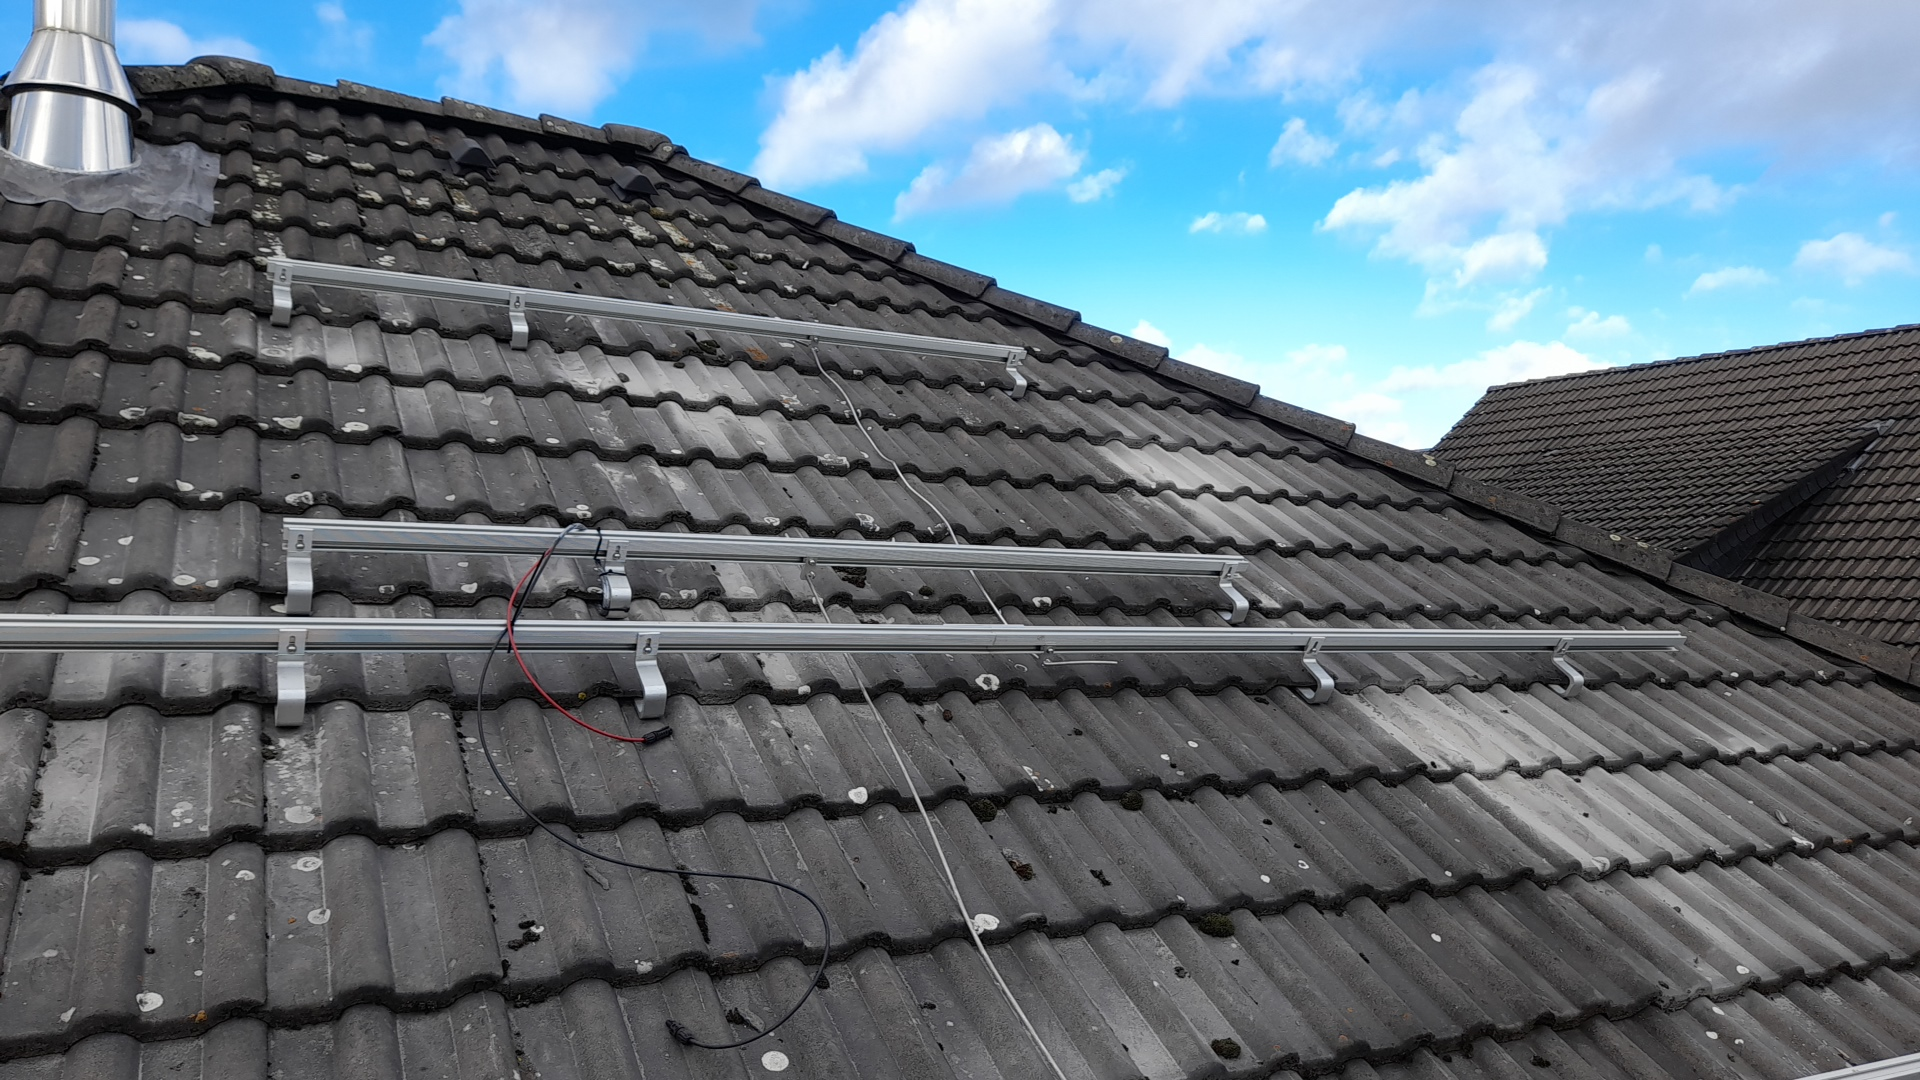hook: (273, 628, 306, 727), (633, 632, 667, 717), (1294, 636, 1335, 704), (599, 541, 632, 618), (284, 527, 313, 615), (1547, 637, 1584, 699), (1217, 562, 1249, 624), (269, 264, 291, 327), (1004, 349, 1027, 400), (509, 290, 527, 349)
